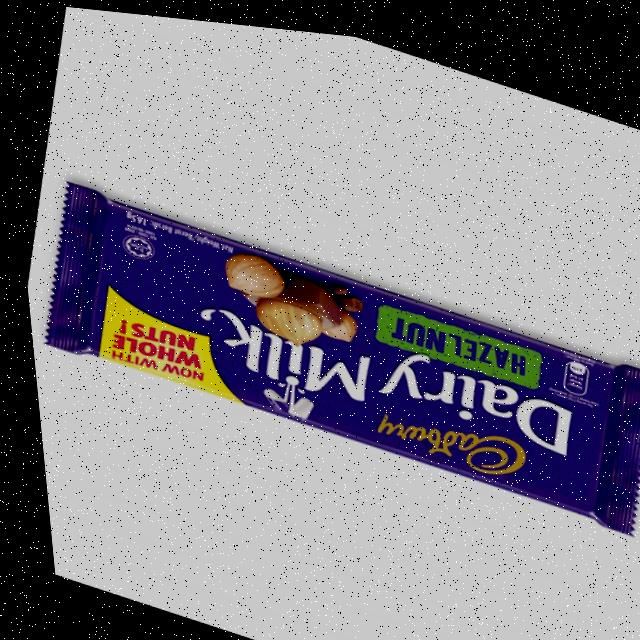cadbury: (11, 143, 640, 554)
